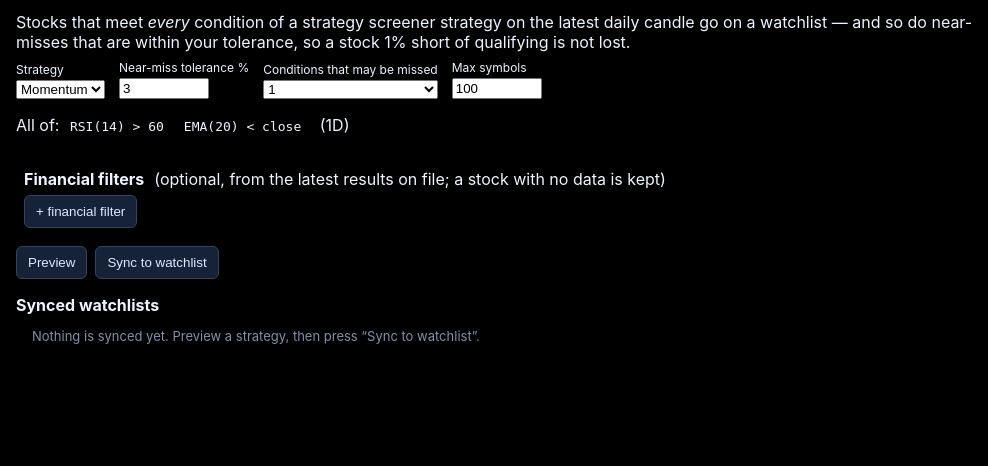
StrategiesView › says so when nothing qualifies, and how many were dropped by financial filters or capped
The image size is (988, 466).
Click the button "Preview" at (52,262), box [16,246,87,279]
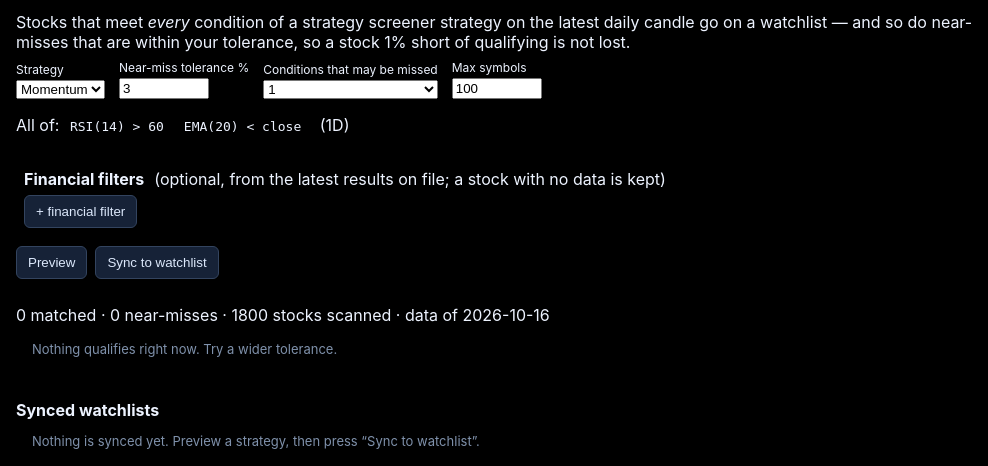
Expected: the text "Nothing qualifies right now. Try a wider tolerance." is shown, [32,341,337,357]
